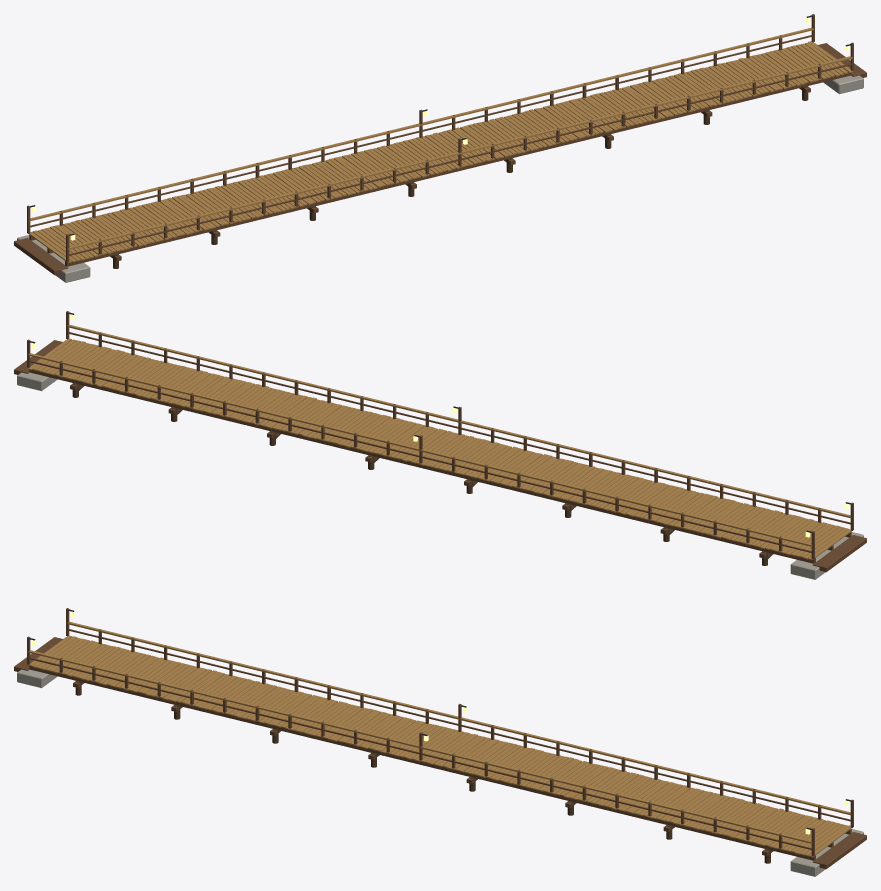
Rendered from tf-bridge.glb.
3 renders of one model, top to bottom at view 1: azimuth 30°, elevation 25°; view 2: azimuth 150°, elevation 25°; view 3: azimuth 330°, elevation 25°, orthographic.
Parts seen in each view (by area): view 1: tf-bridge; view 2: tf-bridge; view 3: tf-bridge.
Boxes of the visible parts, left/top/right/bottom form: tf-bridge: left=14, top=14, right=866, bottom=282; tf-bridge: left=14, top=311, right=866, bottom=579; tf-bridge: left=14, top=608, right=866, bottom=876.
Size of the model in its own units: 57.8 by 3.11 by 6.
